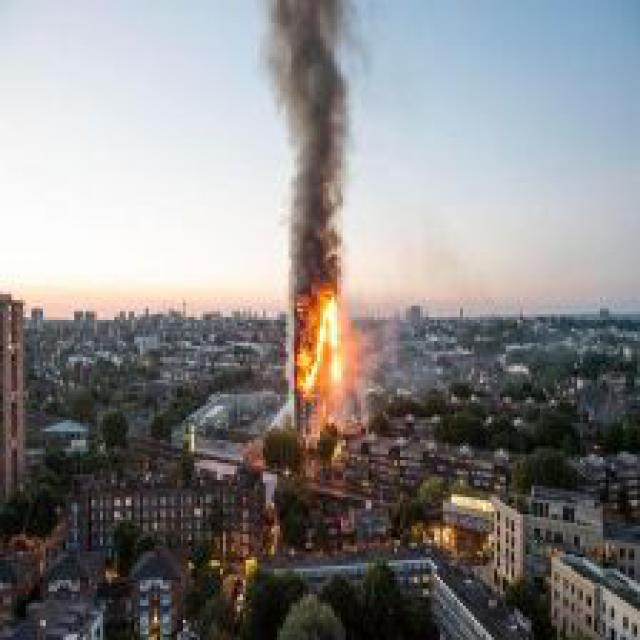fire: (292, 260, 352, 423)
